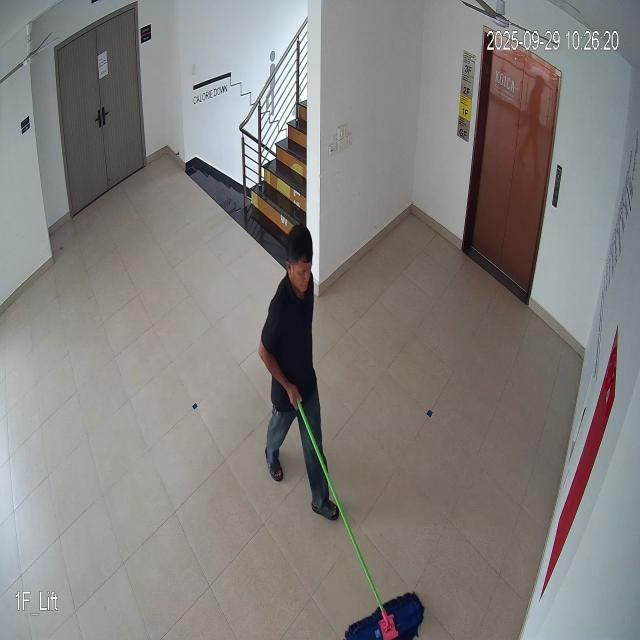face: (282, 218, 316, 296)
